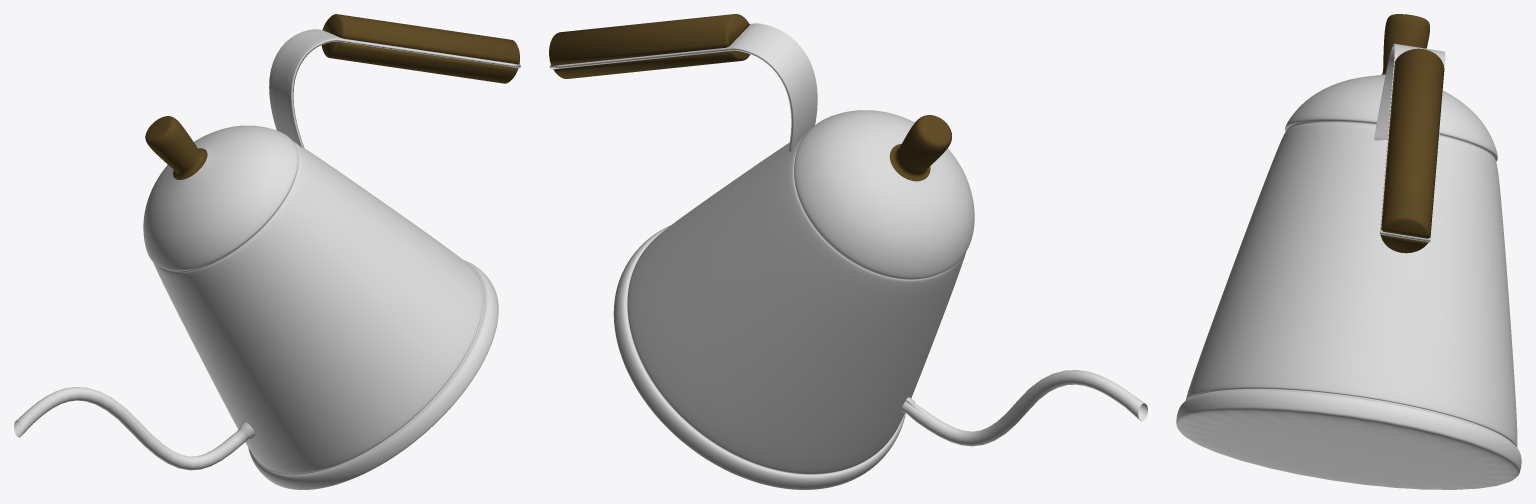
Rendered from Kettle.gltf.
3 views of the same model, side by side, from view 1: azimuth 30°, elevation 25°; view 2: azimuth 150°, elevation 25°; view 3: azimuth 270°, elevation 25° (orthographic). The views are drawn at different scales.
Visible parts, largest first — view 1: Kettle, WoodPiece01, Spout, Handle, WoodPiece02; view 2: Kettle, WoodPiece01, Handle, Spout, WoodPiece02; view 3: Kettle, WoodPiece01, Handle, WoodPiece02.
Part boxes in pixels (<box>): Kettle: <box>143,116,498,489</box>; WoodPiece01: <box>322,14,519,64</box>; Spout: <box>14,387,255,470</box>; Handle: <box>269,29,520,148</box>; WoodPiece02: <box>321,41,518,83</box>; Kettle: <box>613,110,974,489</box>; WoodPiece01: <box>549,14,749,65</box>; Handle: <box>549,23,817,152</box>; Spout: <box>901,370,1147,446</box>; WoodPiece02: <box>553,50,750,78</box>; Kettle: <box>1176,14,1521,489</box>; WoodPiece01: <box>1381,48,1444,238</box>; Handle: <box>1374,43,1445,242</box>; WoodPiece02: <box>1380,234,1428,253</box>.
Size of the model in its own units: 0.1853 by 0.1429 by 0.0912.
